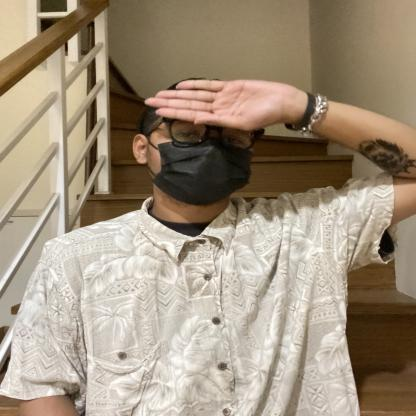Sick: (110, 56, 335, 150)
